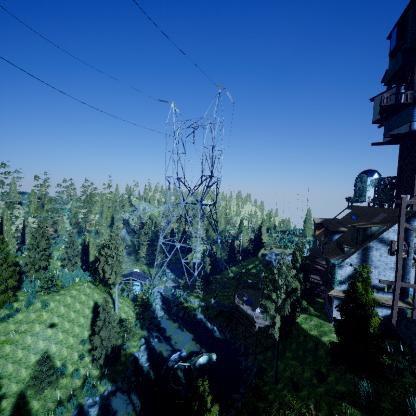tower: (152, 85, 237, 295)
